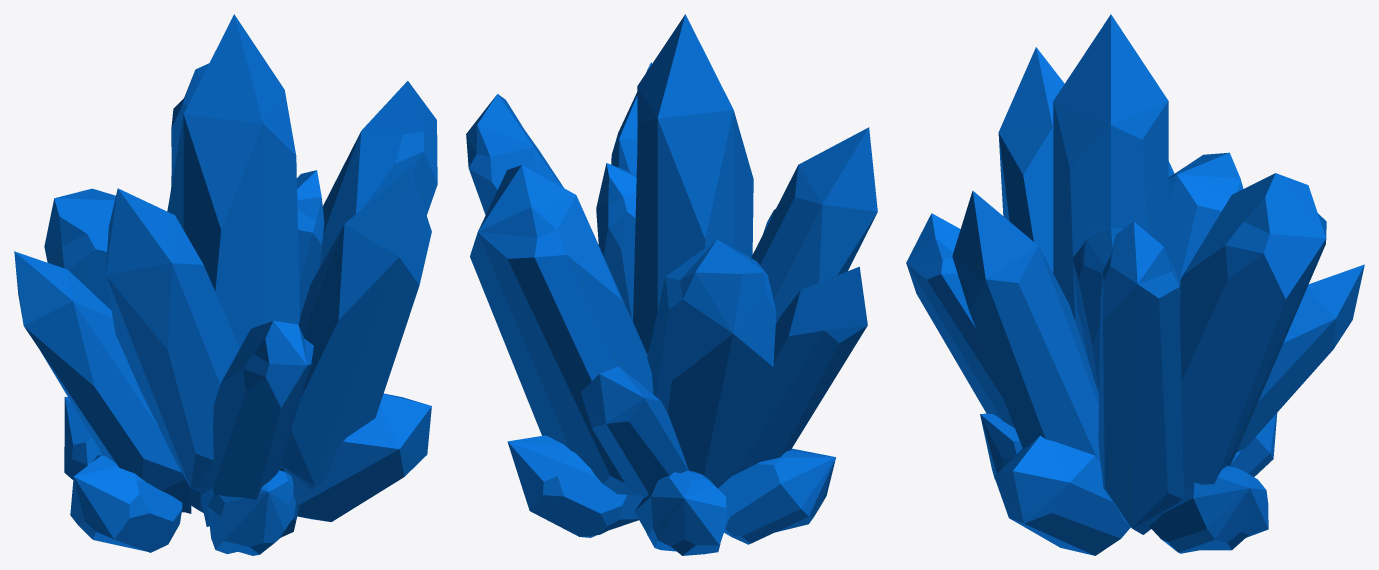
File: CrystalCluster.fbx
3 renders of one model, left to right at view 1: azimuth 30°, elevation 25°; view 2: azimuth 150°, elevation 25°; view 3: azimuth 270°, elevation 25°, orthographic. The views are drawn at different scales.
Visible parts, largest first — view 1: Cube, Cube.003, Cube.006, Cube.007, Cube.013, Cube.001, Cube.011, Cube.008, Cube.005, Cube.002, Cube.012, Cube.009 (+1 smaller); view 2: Cube.004, Cube, Cube.005, Cube.006, Cube.007, Cube.014, Cube.010, Cube.008, Cube.009, Cube.001, Cube.012, Cube.003; view 3: Cube.004, Cube.001, Cube, Cube.003, Cube.011, Cube.006, Cube.013, Cube.014, Cube.010, Cube.005, Cube.012, Cube.002 (+1 smaller).
Part boxes in pixels (<box>): Cube: <box>167,14,299,347</box>; Cube.003: <box>279,167,431,489</box>; Cube.006: <box>105,188,239,491</box>; Cube.007: <box>14,251,191,513</box>; Cube.013: <box>200,320,313,526</box>; Cube.001: <box>320,81,437,266</box>; Cube.011: <box>279,393,431,521</box>; Cube.008: <box>70,454,182,552</box>; Cube.005: <box>44,188,203,512</box>; Cube.002: <box>207,470,299,555</box>; Cube.012: <box>297,170,324,316</box>; Cube.009: <box>64,396,183,512</box>; Cube.004: <box>470,165,653,502</box>; Cube: <box>633,14,753,354</box>; Cube.005: <box>647,239,776,488</box>; Cube.006: <box>751,127,877,324</box>; Cube.007: <box>732,266,867,475</box>; Cube.014: <box>581,366,688,497</box>; Cube.010: <box>507,435,639,537</box>; Cube.008: <box>718,448,835,544</box>; Cube.009: <box>634,470,733,555</box>; Cube.001: <box>466,94,563,214</box>; Cube.012: <box>596,163,636,321</box>; Cube.003: <box>611,62,651,175</box>; Cube.004: <box>1180,173,1326,487</box>; Cube.001: <box>1098,221,1183,534</box>; Cube: <box>1053,14,1168,357</box>; Cube.003: <box>952,191,1100,461</box>; Cube.011: <box>994,435,1130,555</box>; Cube.006: <box>998,47,1064,273</box>; Cube.013: <box>906,213,1014,428</box>; Cube.014: <box>1236,264,1364,452</box>; Cube.010: <box>1149,465,1268,553</box>; Cube.005: <box>1168,152,1243,280</box>; Cube.012: <box>1072,226,1122,394</box>; Cube.002: <box>980,413,1022,478</box>.
Bounding box in the file's own units: 45.46 × 54.05 × 43.91.
